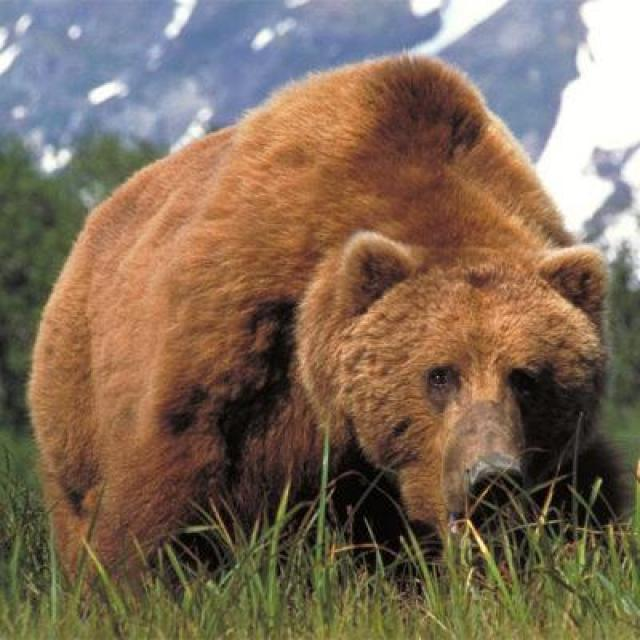Bear: (27, 53, 635, 584)
